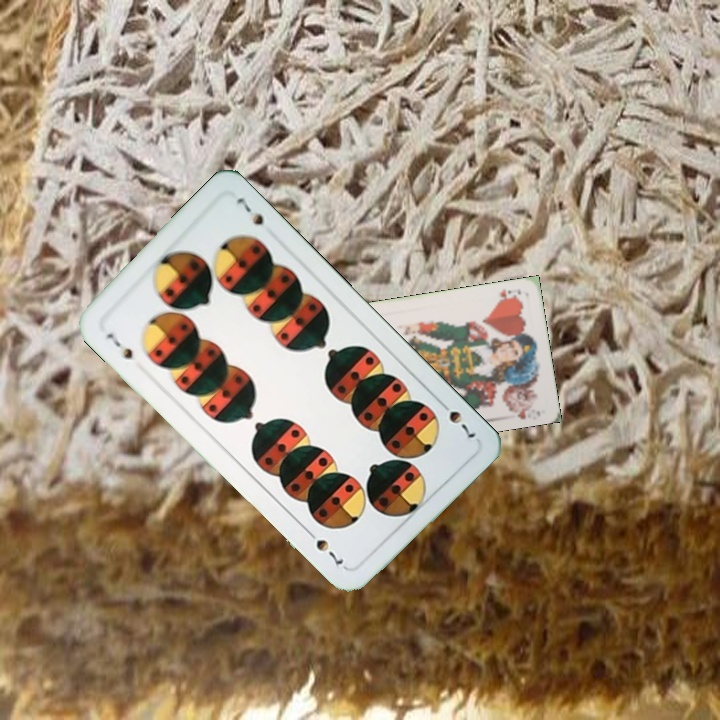HO: (493, 285, 524, 305)
S7: (434, 395, 479, 441), (102, 329, 136, 362)
